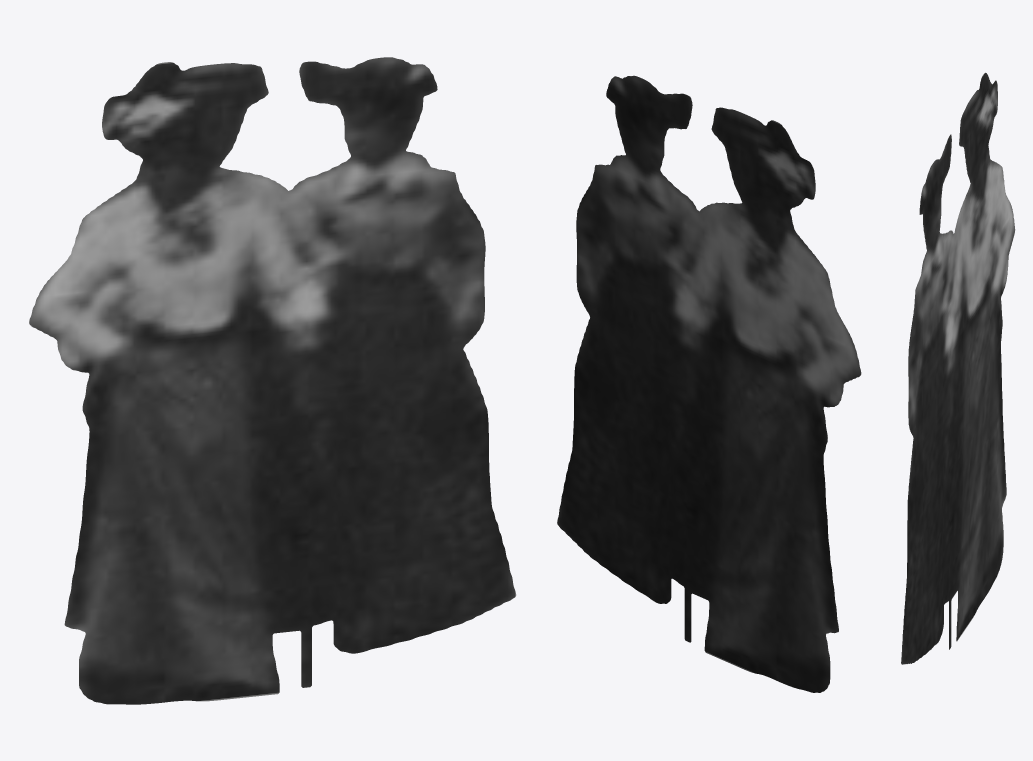
File: Old_Ladies.FBX
The picture shows the model from 3 angles, left to right: view 1: azimuth 30°, elevation 25°; view 2: azimuth 150°, elevation 25°; view 3: azimuth 270°, elevation 25°; orthographic projection. The views are drawn at different scales.
Visible parts, largest first — view 1: Ladies; view 2: Ladies; view 3: Ladies.
Part boxes in pixels (<box>): Ladies: <box>29,57,516,704</box>; Ladies: <box>557,75,861,692</box>; Ladies: <box>901,72,1015,664</box>.
Bounding box in the file's own units: 135 × 200 × 38.74.
1 material, 1 textured.
